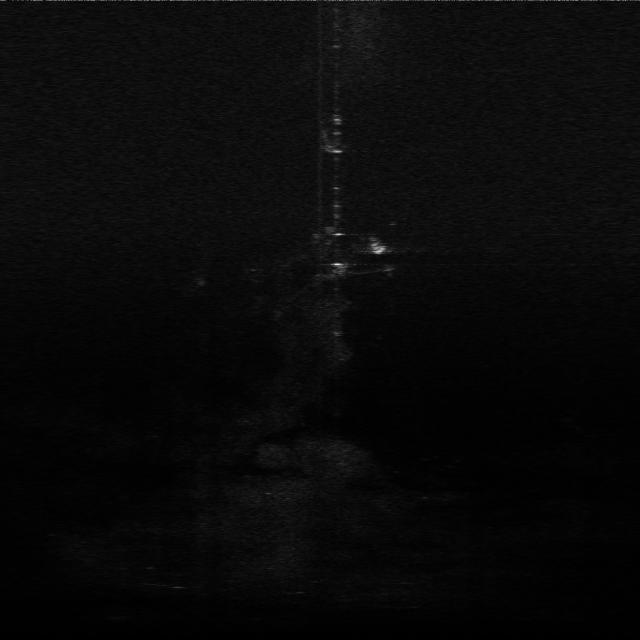rov: (366, 240, 390, 257)
